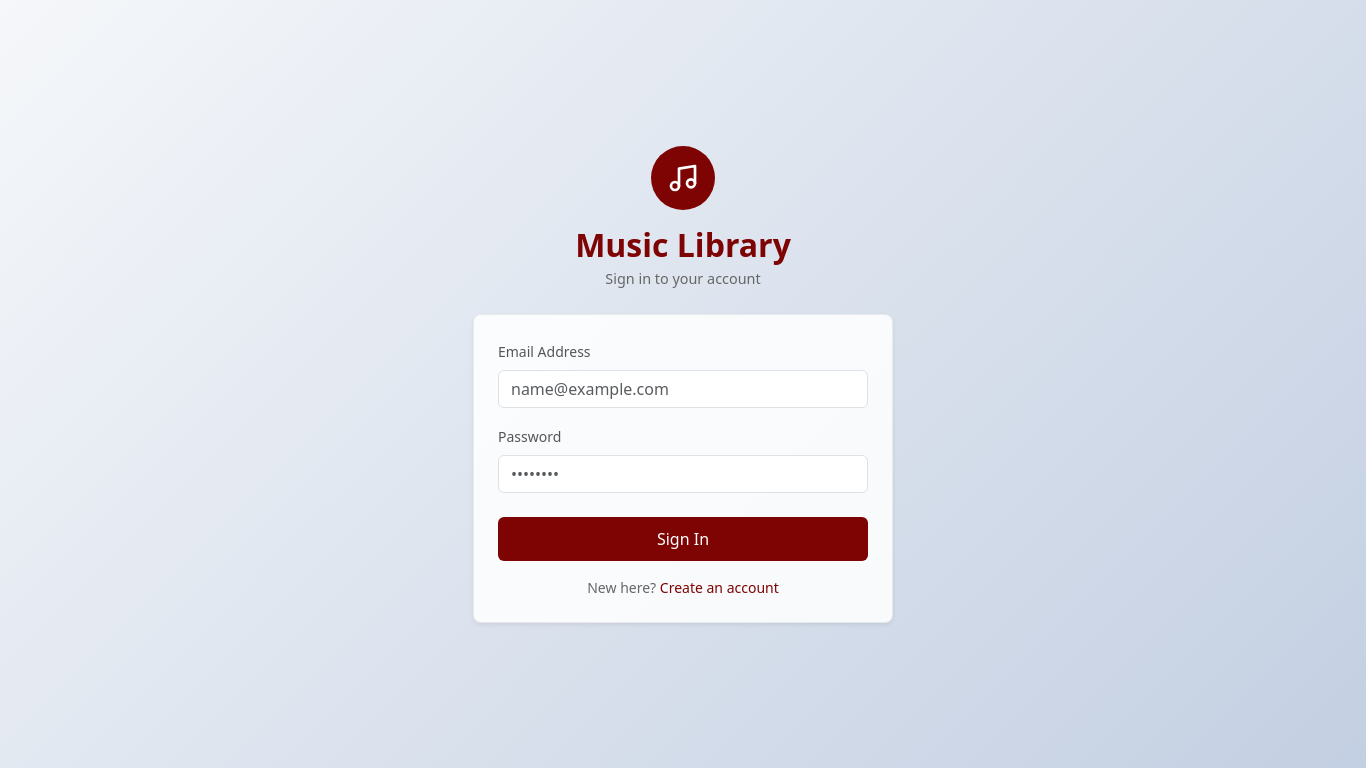
Scenario: Login component › API calls › shows API error message when login fails
Type "wrong@music.com" into the field with placeholder "name@example.com".
click(683, 388); type("wrong@music.com")  # box 498,370 -> 868,408
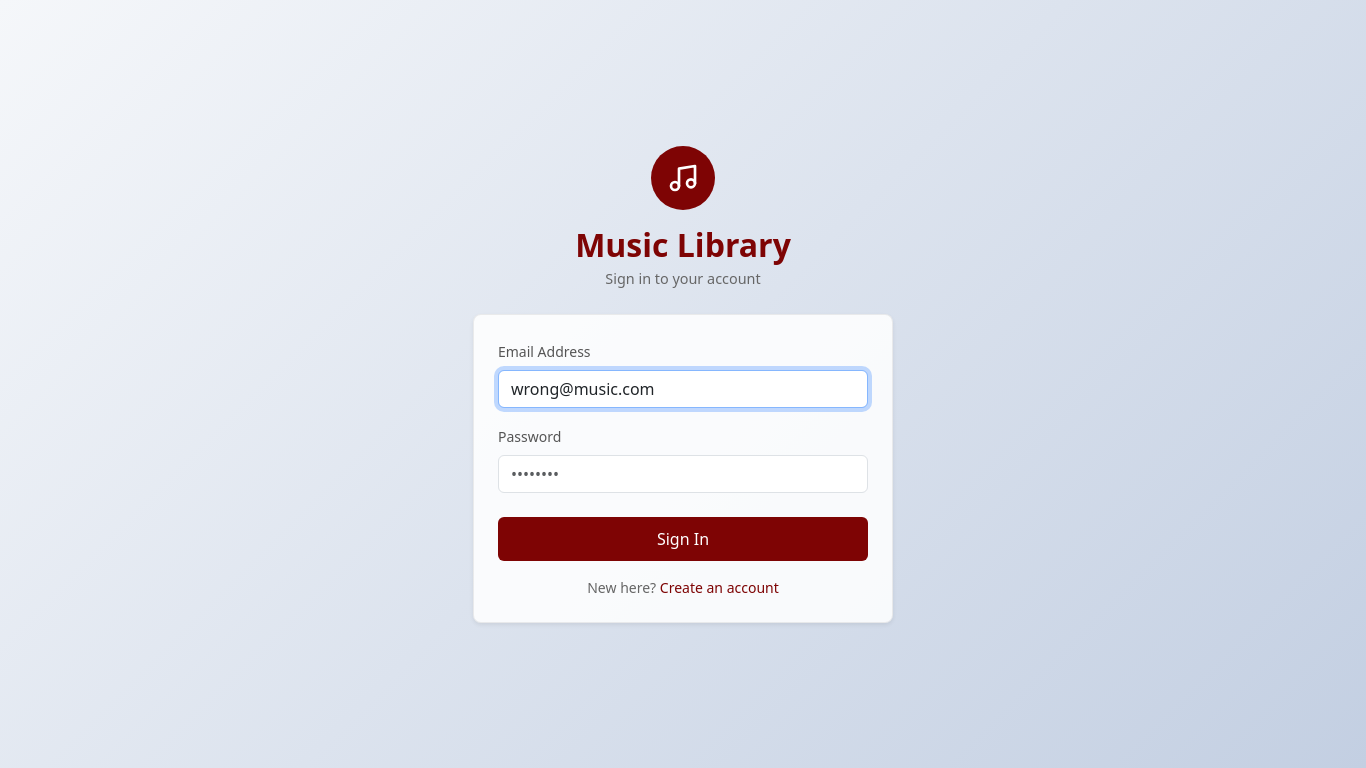
Type "wrongpass" into the password field with placeholder "••••••••".
click(683, 474); type("wrongpass")  # box 498,454 -> 868,492
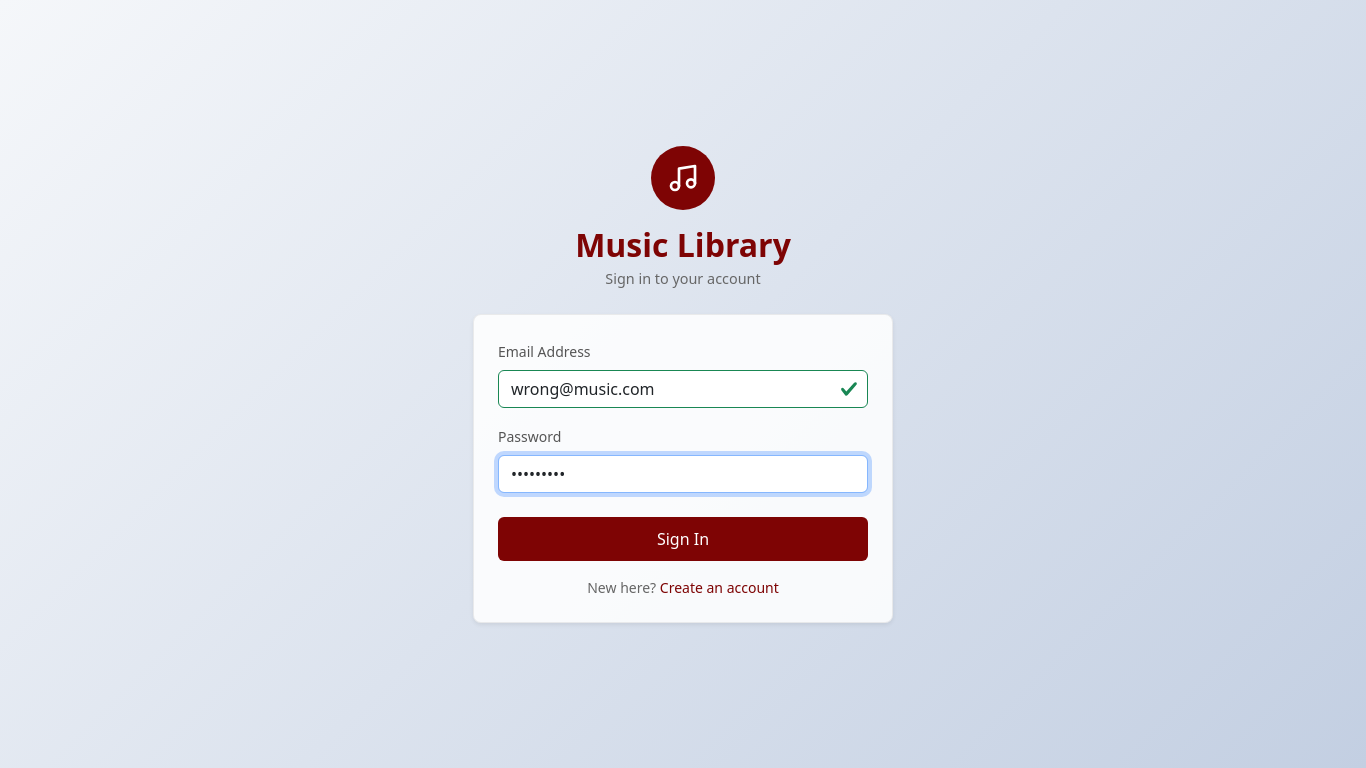
Click the button "Sign In".
click(683, 538)  # box 498,516 -> 868,560
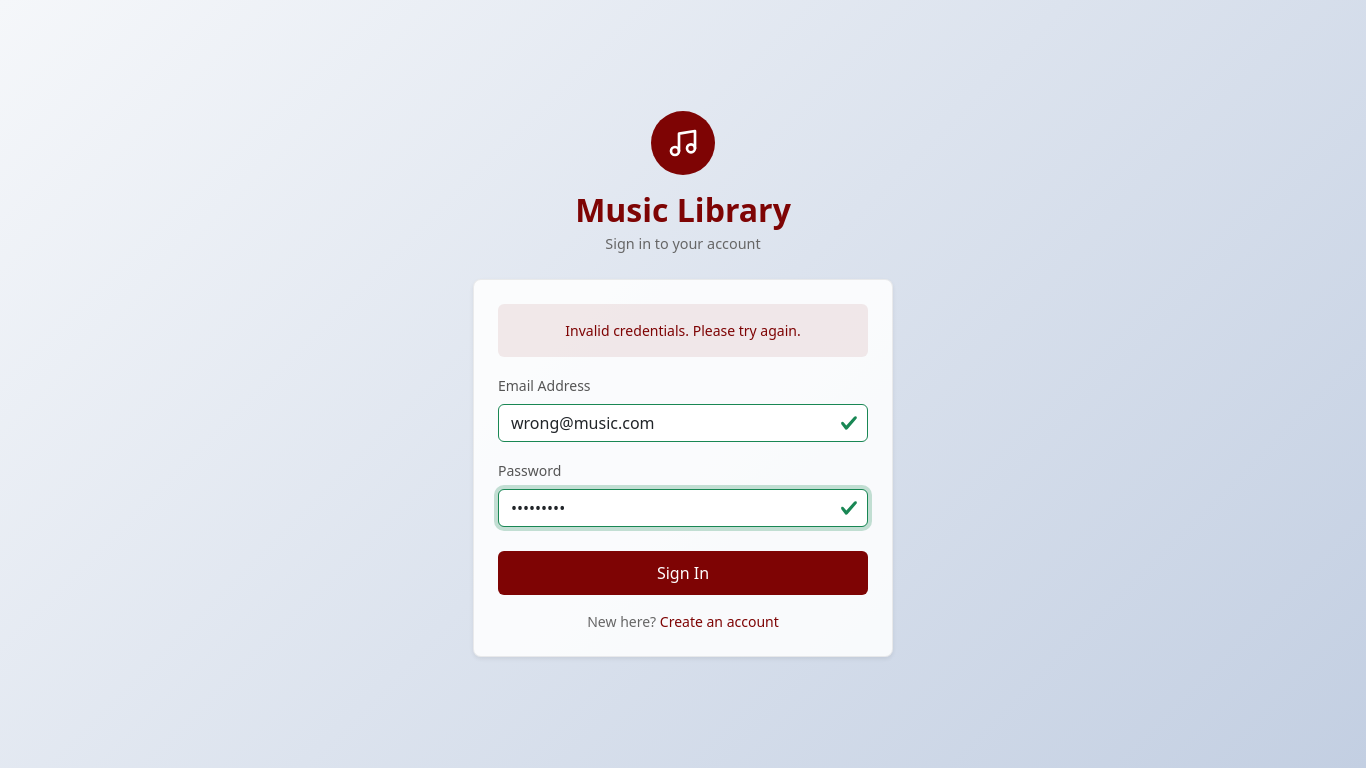
Expected: the text "Invalid credentials. Please try again." is shown, 498,304 -> 868,357
